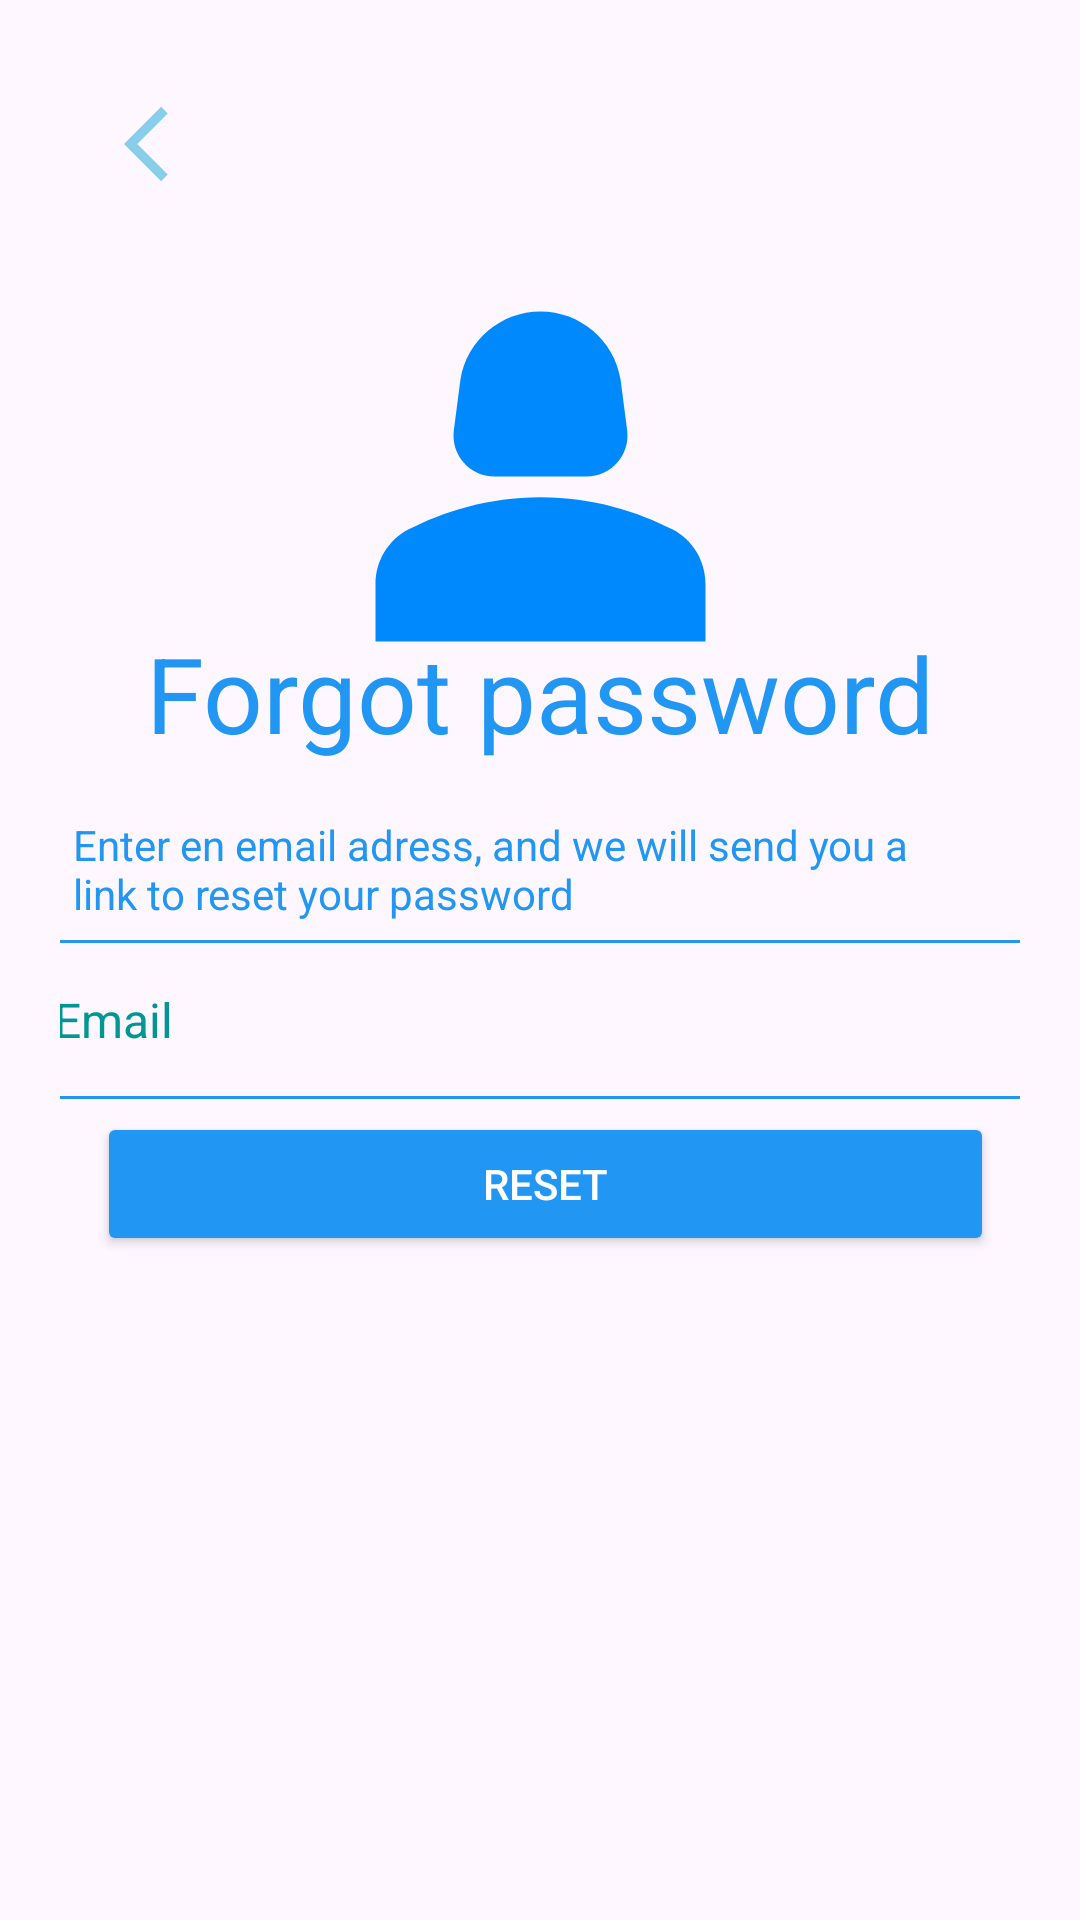

Screen size 1080x1920. Icon name, then its center in pixels as (x=x, y=y):
arrow back: (x=146, y=144)
person: (x=540, y=476)
